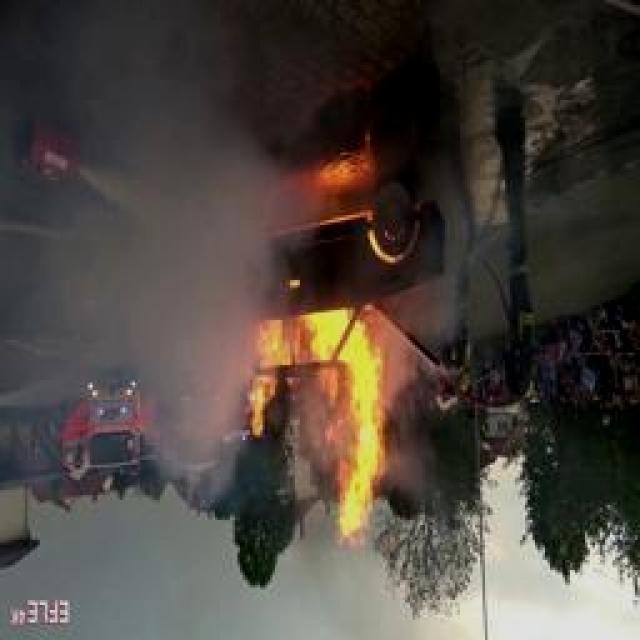fire: (220, 170, 445, 540)
